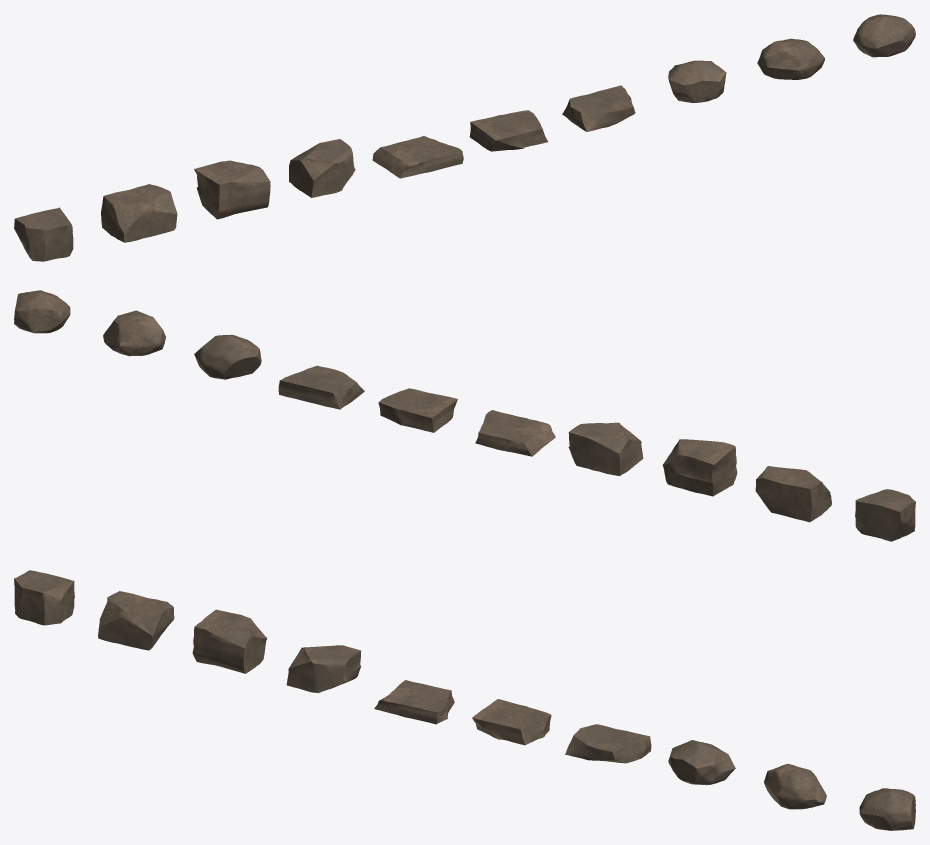
Rendered from rocas-neutra.glb.
The picture shows the model from 3 angles, top to bottom: view 1: azimuth 30°, elevation 25°; view 2: azimuth 150°, elevation 25°; view 3: azimuth 330°, elevation 25°; orthographic projection.
Parts seen in each view (by area): view 1: roca1, roca2, roca3, roca4, roca0, roca5, roca6, roca8, roca9, roca7; view 2: roca2, roca3, roca1, roca0, roca6, roca4, roca5, roca7, roca8, roca9; view 3: roca2, roca1, roca0, roca3, roca6, roca5, roca4, roca7, roca8, roca9.
Part boxes in pixels (left/top/right/bottom): roca1: left=101, top=184, right=177, bottom=242; roca2: left=194, top=160, right=270, bottom=219; roca3: left=289, top=139, right=355, bottom=197; roca4: left=372, top=136, right=463, bottom=178; roca0: left=14, top=207, right=73, bottom=261; roca5: left=469, top=110, right=547, bottom=151; roca6: left=562, top=85, right=635, bottom=131; roca8: left=757, top=38, right=824, bottom=79; roca9: left=853, top=14, right=915, bottom=57; roca7: left=668, top=60, right=726, bottom=102; roca2: left=662, top=439, right=737, bottom=496; roca3: left=568, top=422, right=643, bottom=475; roca1: left=755, top=466, right=831, bottom=522; roca0: left=855, top=489, right=915, bottom=541; roca6: left=278, top=365, right=364, bottom=409; roca4: left=475, top=410, right=555, bottom=456; roca5: left=378, top=388, right=457, bottom=432; roca7: left=194, top=334, right=261, bottom=379; roca8: left=103, top=310, right=165, bottom=356; roca9: left=14, top=290, right=70, bottom=333; roca2: left=192, top=609, right=267, bottom=673; roca1: left=98, top=591, right=174, bottom=650; roca0: left=14, top=570, right=74, bottom=625; roca3: left=286, top=645, right=361, bottom=693; roca6: left=565, top=724, right=651, bottom=763; roca5: left=472, top=699, right=551, bottom=745; roca4: left=374, top=680, right=454, bottom=724; roca7: left=668, top=740, right=735, bottom=785; roca8: left=764, top=763, right=826, bottom=809; roca9: left=859, top=788, right=915, bottom=830.
Bounding box in the file's own units: 19.08 × 0.7761 × 1.09.
1 material, 1 textured.
